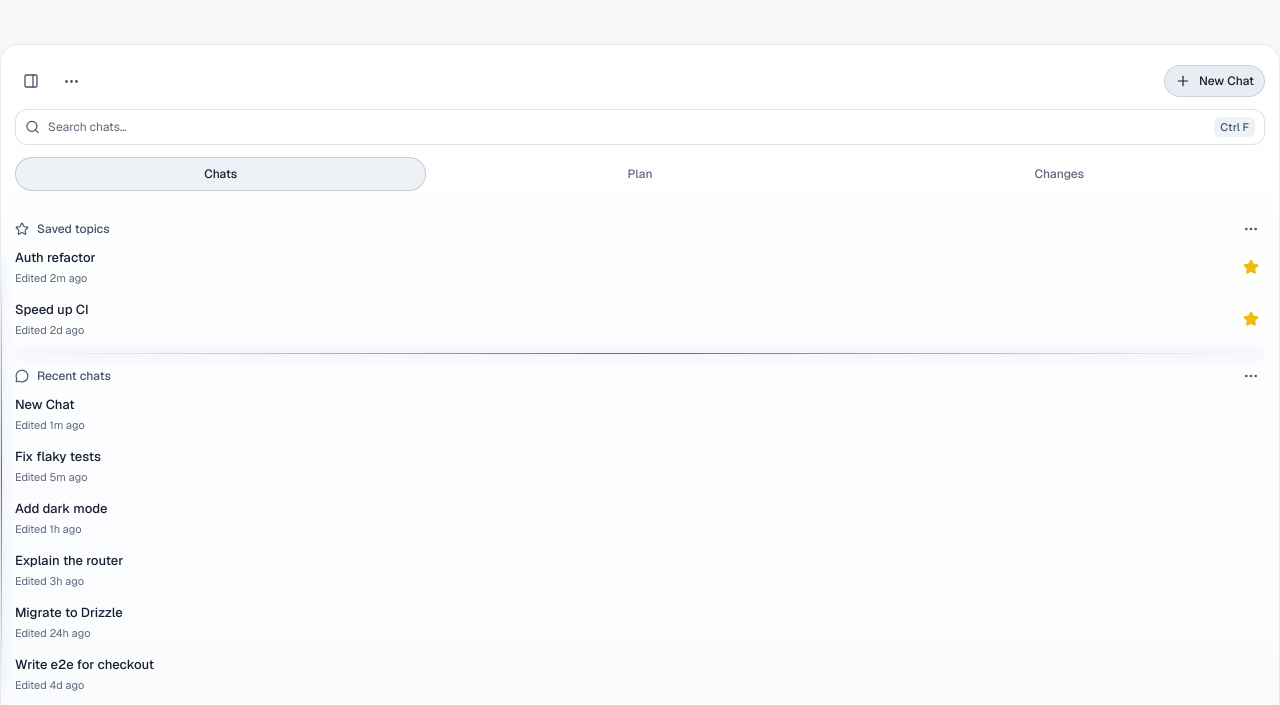
desktop frame interactions › filters chats from the right panel search field
The width and height of the screenshot is (1280, 705).
Expected: the text "Auth refactor" is shown, [15,248,96,268]
Type "Auth refactor" into the field named "Search chats" at [627, 127], box [48,113,1206,141]
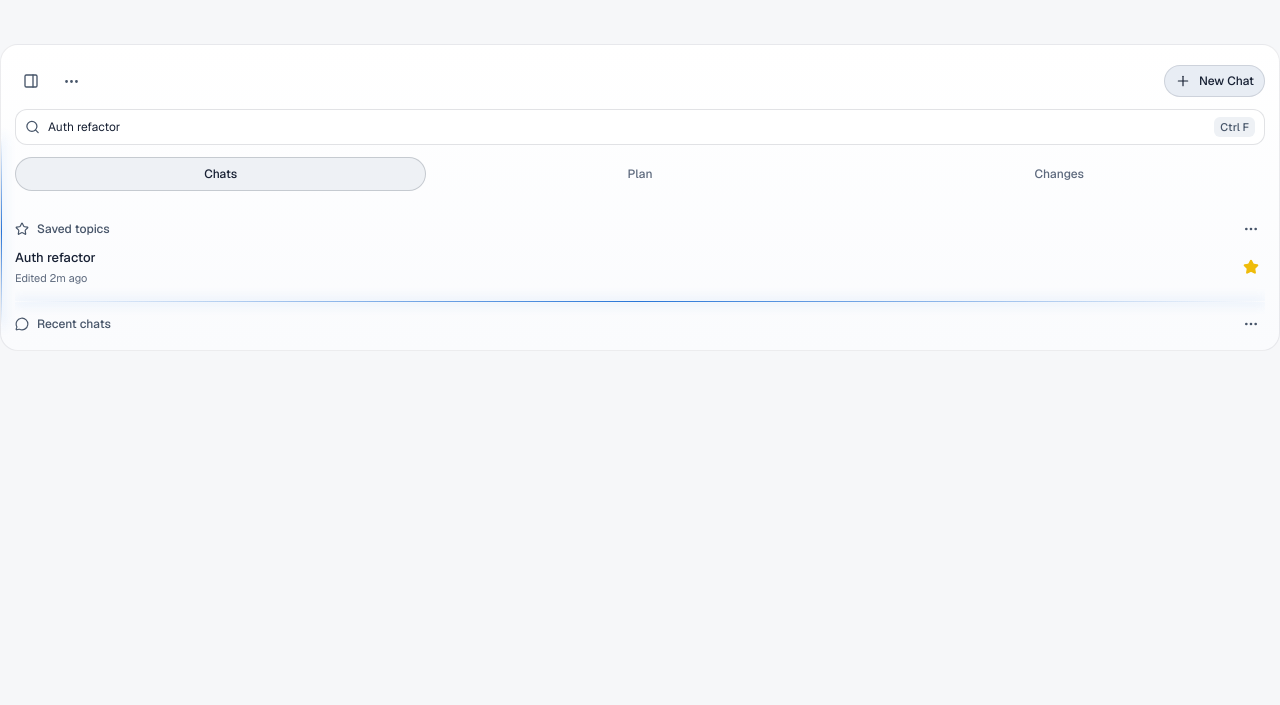
Expected: the text "Auth refactor" is shown, [15,248,96,268]
Now the button "Fix flaky tests" is gone
